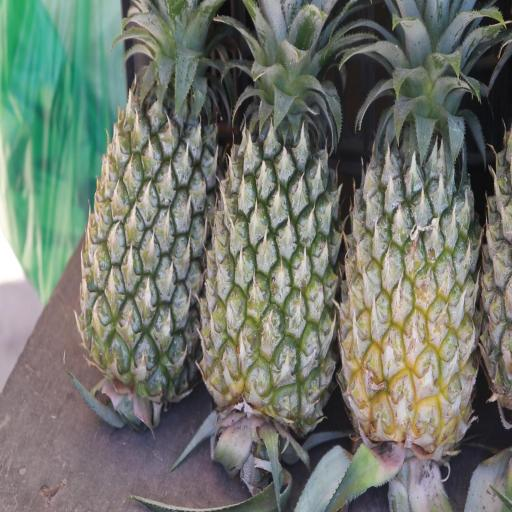------------------------------: (336, 2, 485, 464)
